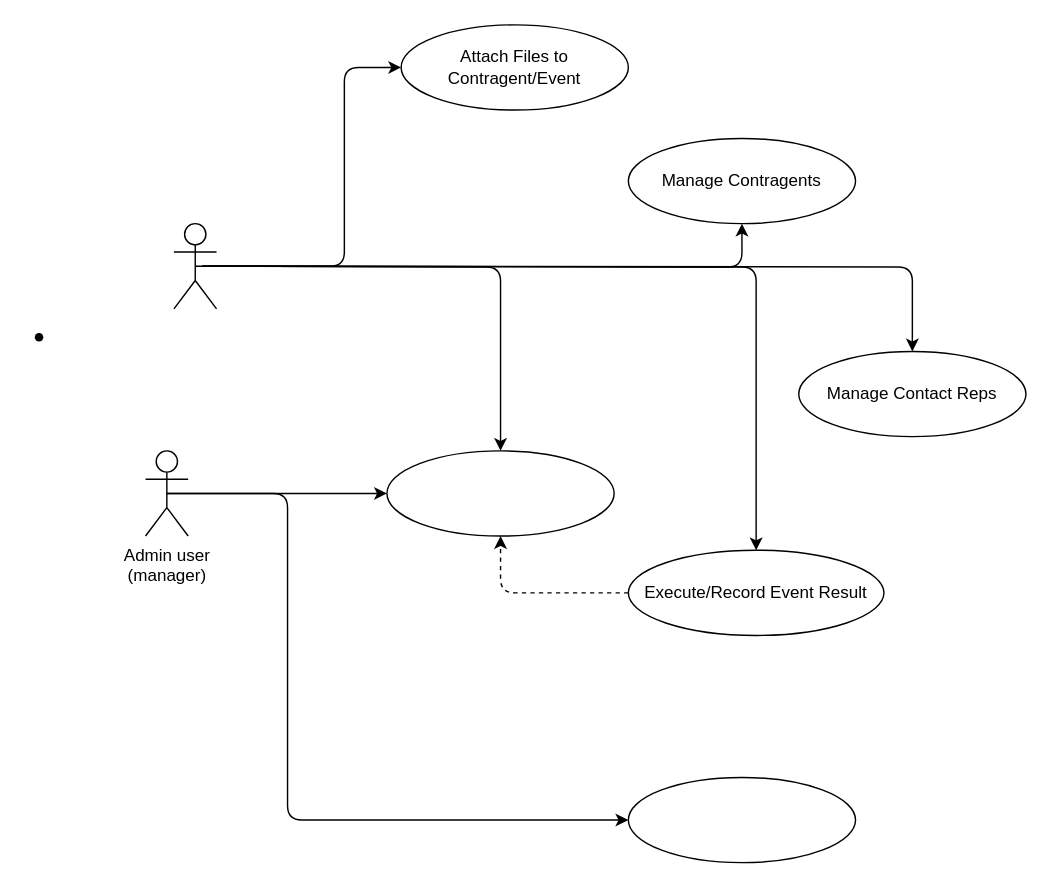
This 1051x888 diagram has some shape labels left out. Each missing label, with the box of its shape:
Define/Edit Event Types: (627, 776, 856, 863)
Employee: (173, 222, 217, 309)
Schedule Event: (386, 449, 614, 536)
